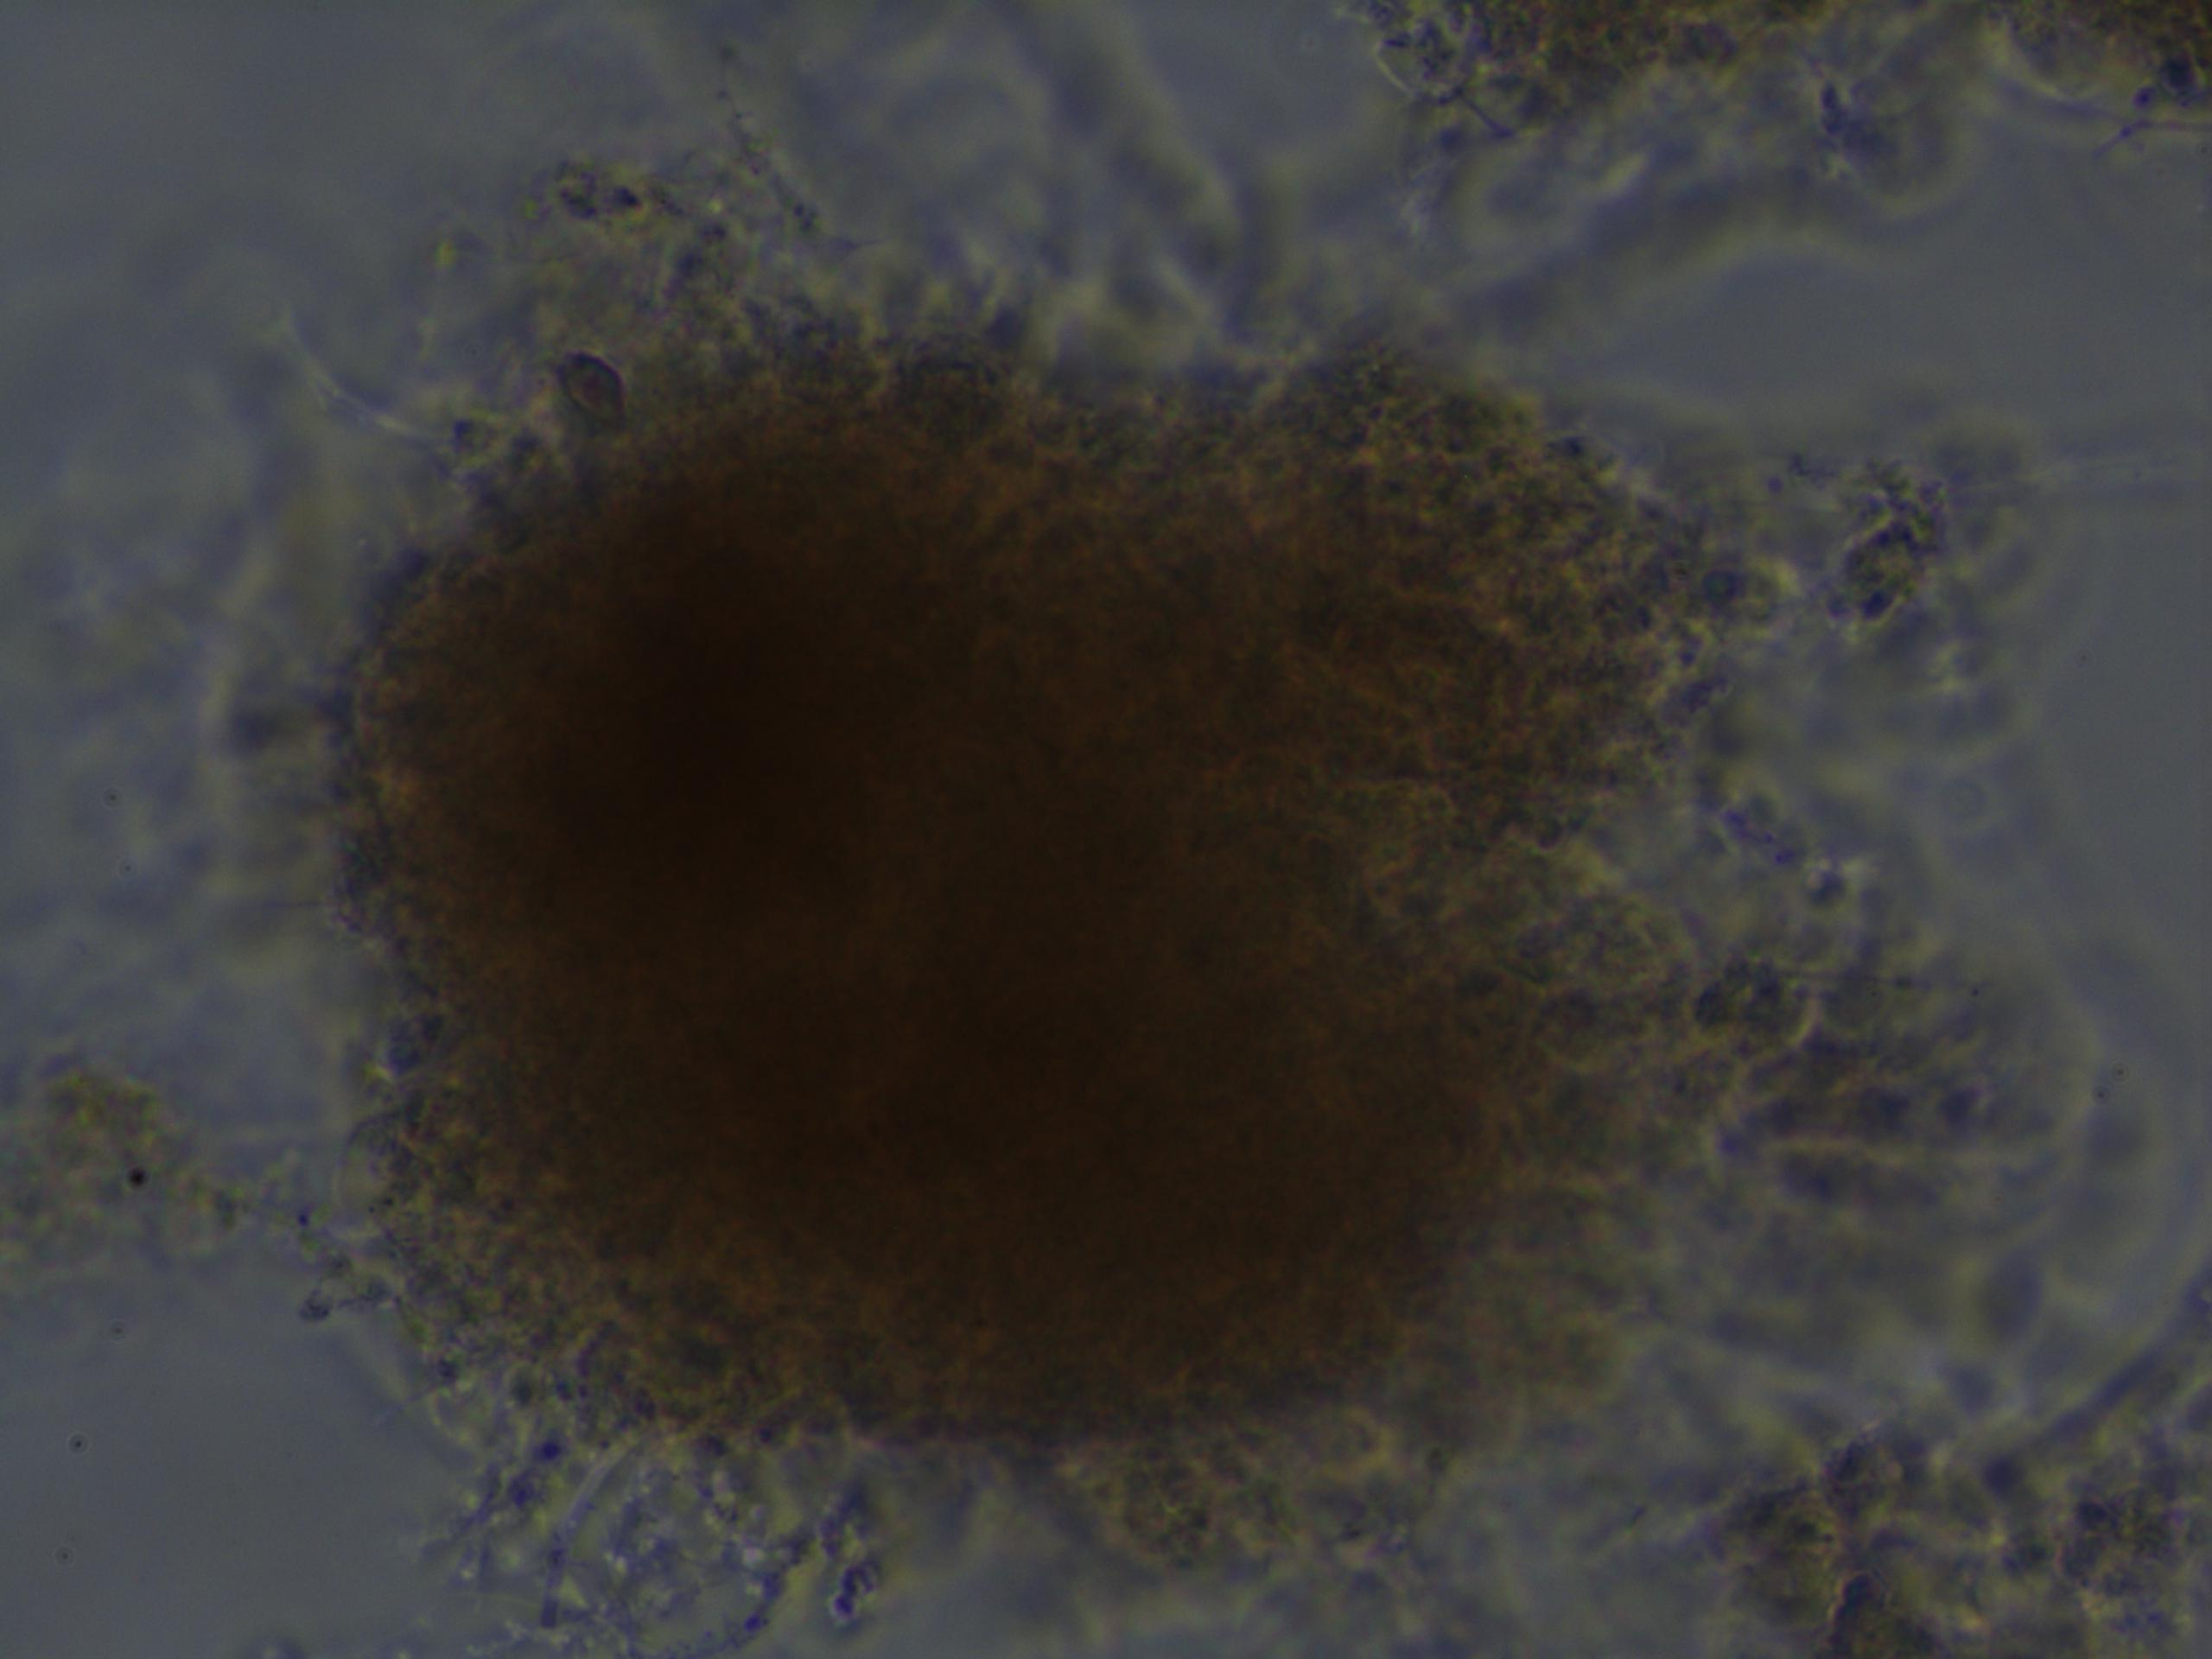spherical_floc: (320, 305, 1717, 1504)
